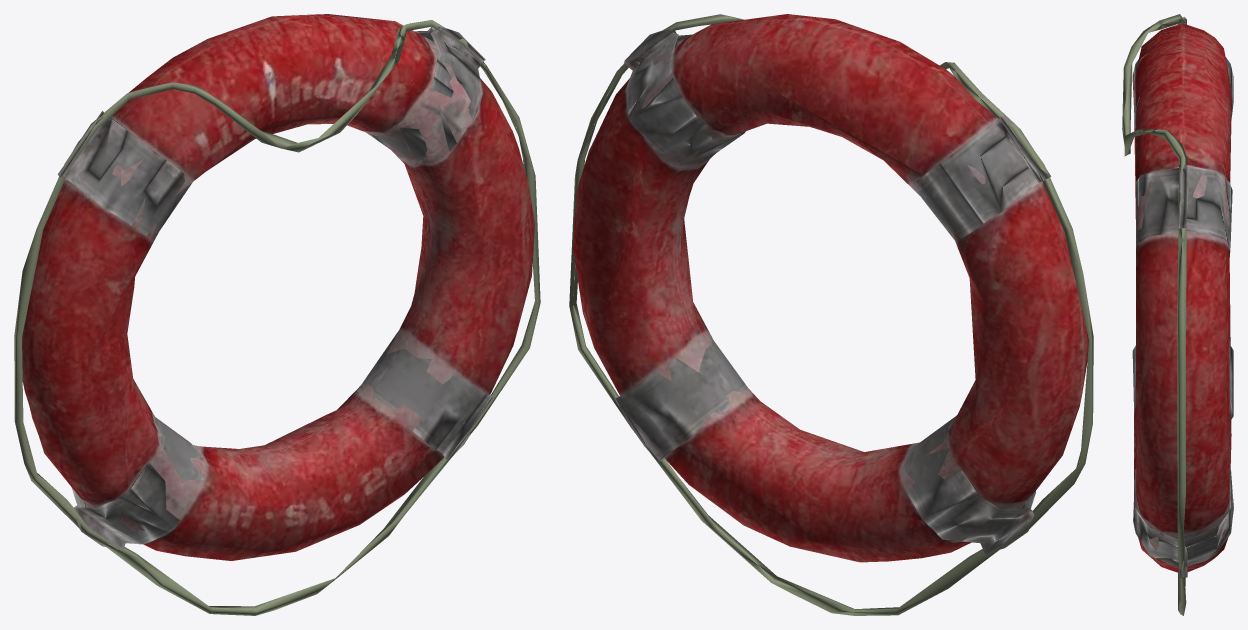
File: lifebuoy.glb
The picture shows the model from 3 angles, left to right: view 1: azimuth 30°, elevation 25°; view 2: azimuth 150°, elevation 25°; view 3: azimuth 270°, elevation 25°; orthographic projection. The views are drawn at different scales.
Visible parts, largest first — view 1: lifebuoy; view 2: lifebuoy; view 3: lifebuoy.
Part boxes in pixels (x1,y1,x2,y2): lifebuoy: (14, 14, 540, 615); lifebuoy: (569, 14, 1093, 615); lifebuoy: (1122, 14, 1233, 615).
Bounding box in the file's own units: 0.7808 × 0.8396 × 0.1537.
1 material, 1 textured.
